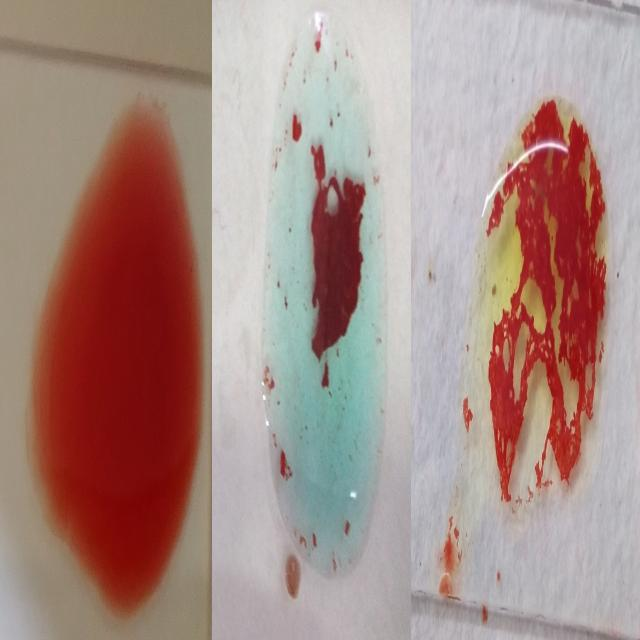A: (269, 19, 385, 568)
B: (471, 84, 612, 530)
